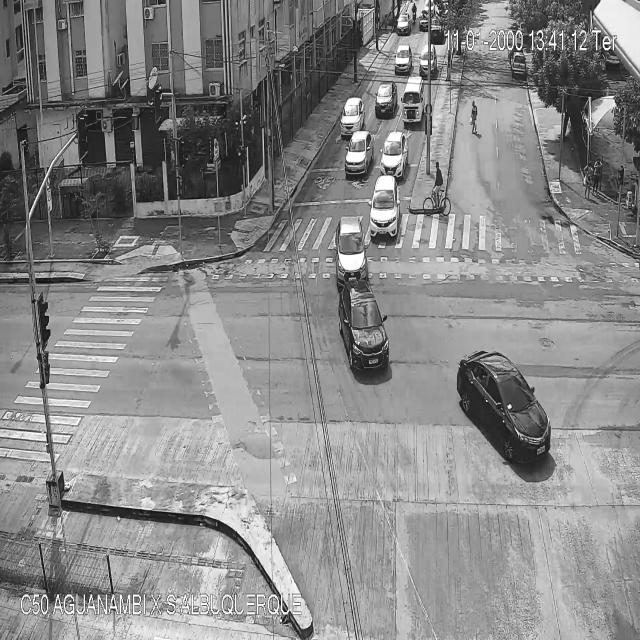Car: (458, 350, 553, 468), (340, 283, 391, 372), (336, 219, 370, 285), (371, 176, 398, 240), (382, 129, 408, 180), (400, 74, 425, 124), (346, 131, 372, 177), (340, 95, 363, 138), (375, 82, 400, 119), (395, 46, 412, 73), (421, 46, 436, 76), (510, 53, 526, 76), (430, 18, 444, 44), (396, 14, 409, 34), (420, 9, 429, 28)
Motorcycle: (411, 3, 417, 22)
